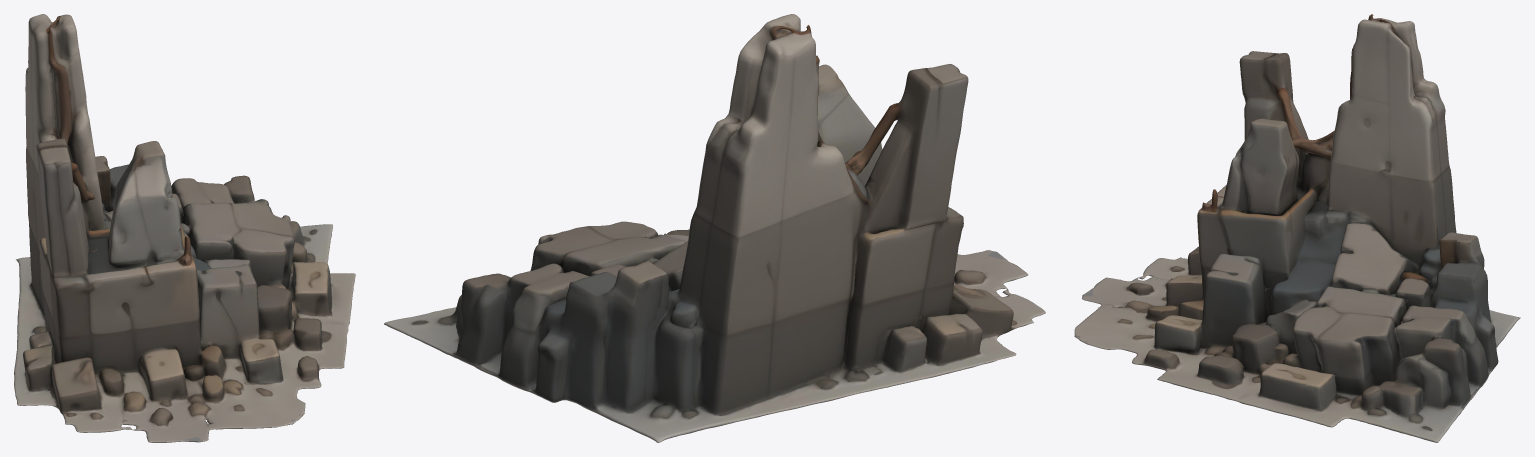
The model's file is SM_Environment_StoneRuinDebris_01.fbx.
3 renders of one model, left to right at view 1: azimuth 30°, elevation 25°; view 2: azimuth 150°, elevation 25°; view 3: azimuth 270°, elevation 25°, orthographic. The views are drawn at different scales.
Visible parts, largest first — view 1: SM_Environment_StoneRuinDebris_01; view 2: SM_Environment_StoneRuinDebris_01; view 3: SM_Environment_StoneRuinDebris_01.
Boxes of the visible parts, left/top/right/bottom form: SM_Environment_StoneRuinDebris_01: left=14, top=14, right=355, bottom=442; SM_Environment_StoneRuinDebris_01: left=384, top=14, right=1045, bottom=442; SM_Environment_StoneRuinDebris_01: left=1074, top=14, right=1520, bottom=442.
Size of the model in its own units: 0.994 by 0.6884 by 0.9724.
1 material, 1 textured.
